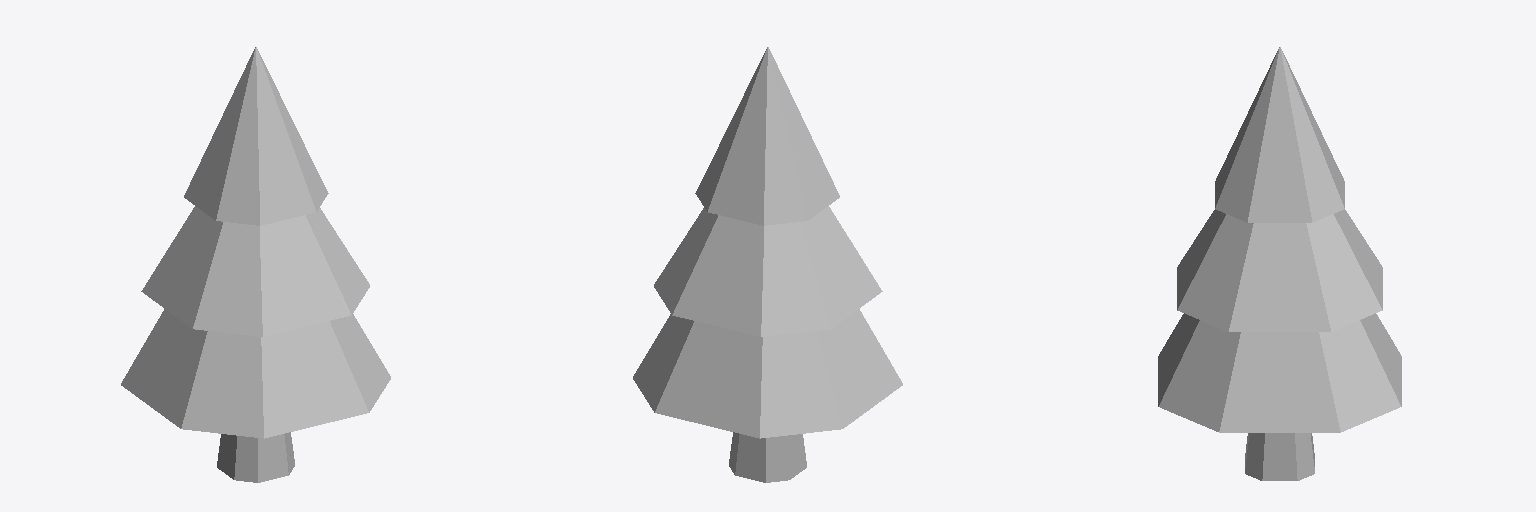
Rendered from tree.obj.
3 renders of one model, left to right at view 1: azimuth 30°, elevation 25°; view 2: azimuth 150°, elevation 25°; view 3: azimuth 270°, elevation 25°, orthographic.
Visible parts, largest first — view 1: tree; view 2: tree; view 3: tree.
Part boxes in pixels (x1,y1,x2,y2): tree: (121, 47, 390, 482); tree: (633, 47, 902, 482); tree: (1158, 47, 1401, 480).
Bounding box in the file's own units: 0.75 × 1.43 × 0.75.